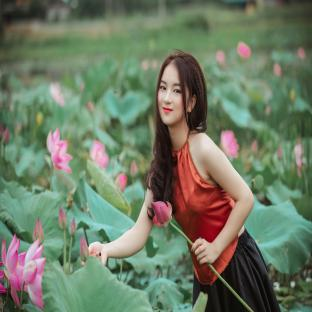Human: (89, 52, 280, 312)
